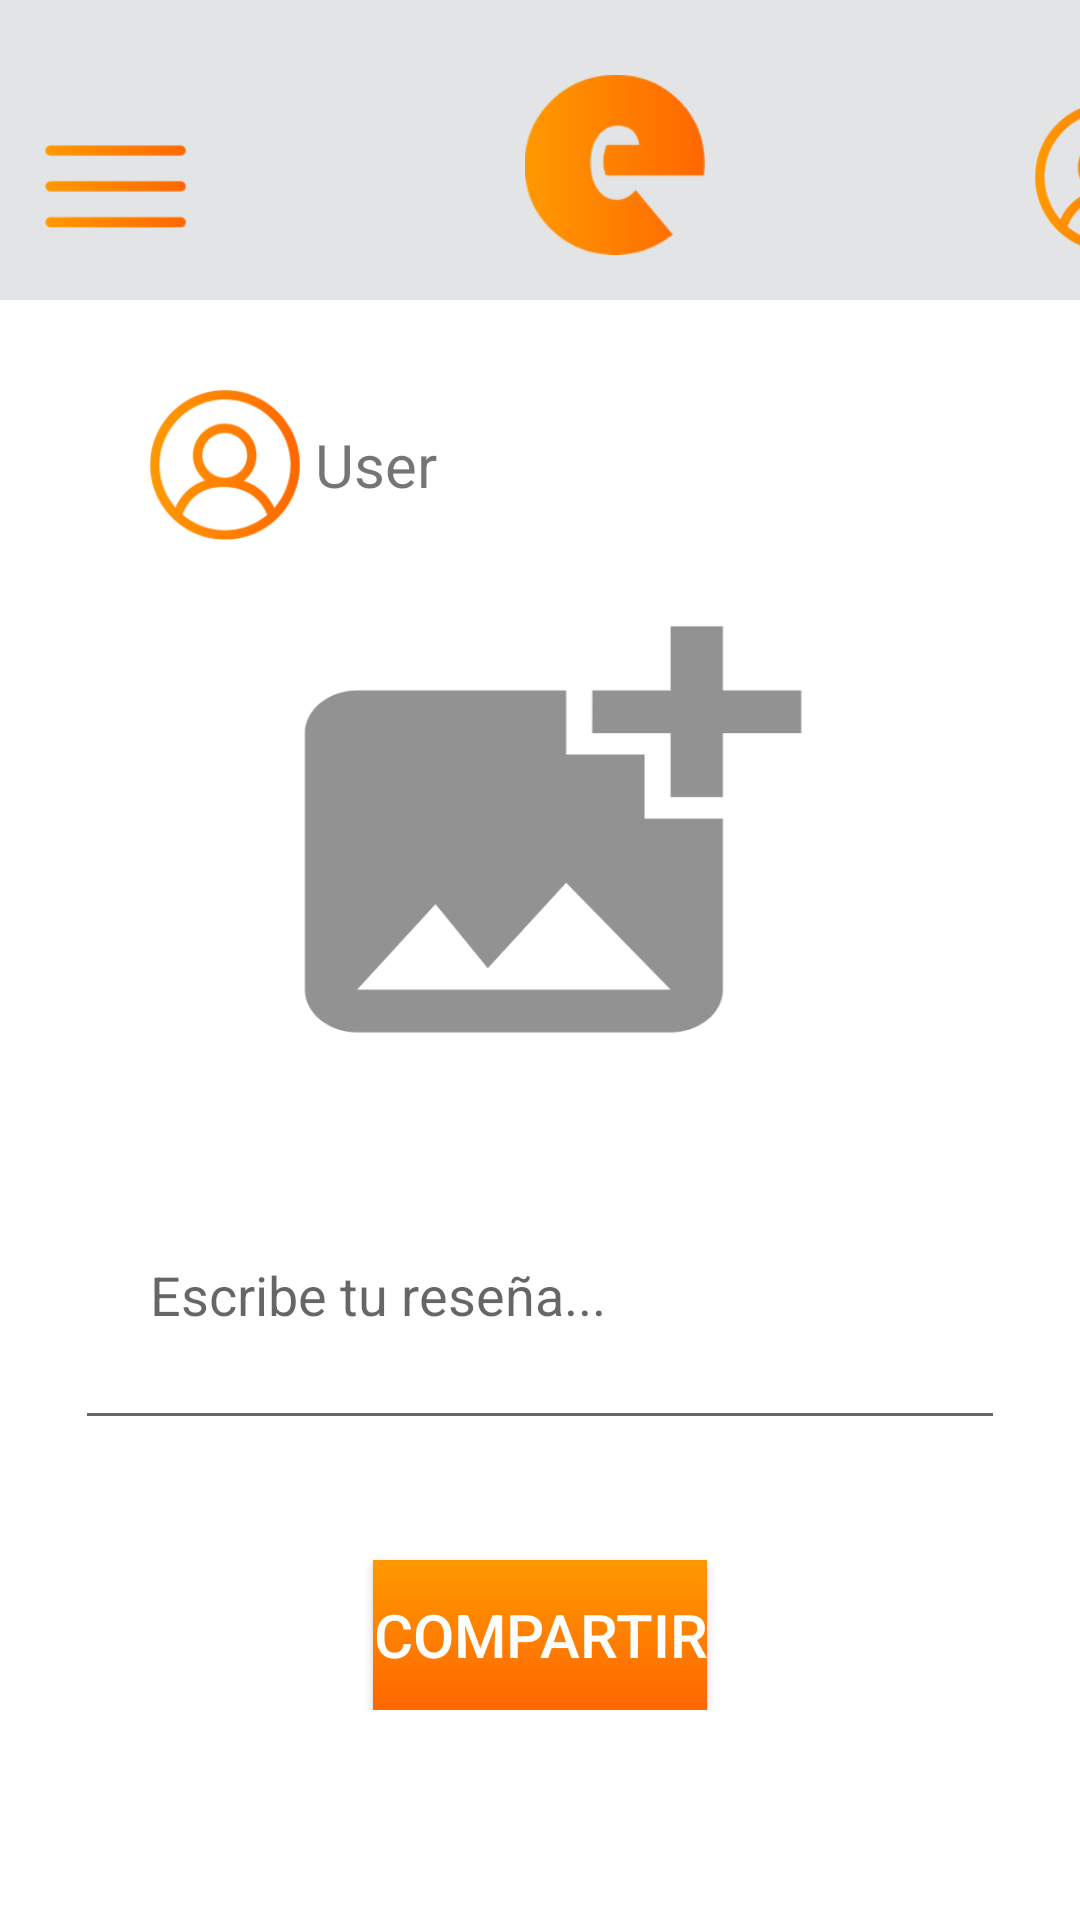

Screen size 1080px x 1920px. Icon name, then its center in pixels as (x,y):
tresbarras: (115,186)
